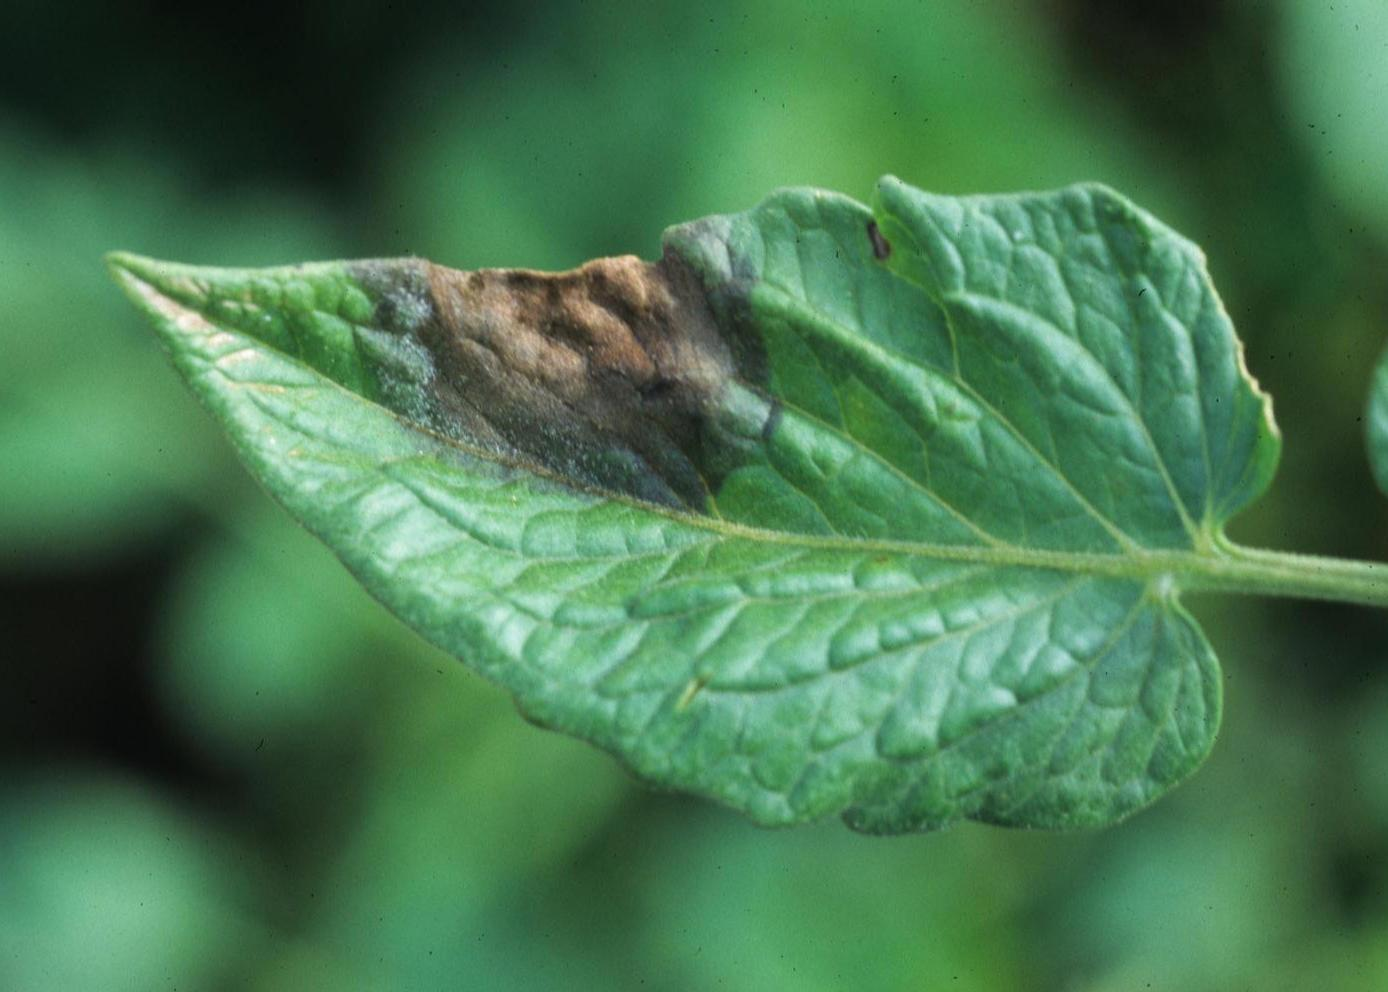Tomato leaf late blight: (74, 131, 1304, 857)
